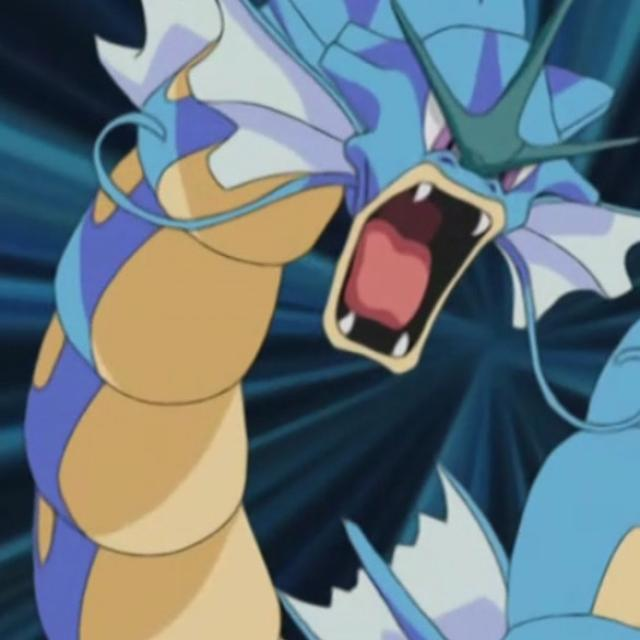Gyarados: (39, 0, 547, 462)
